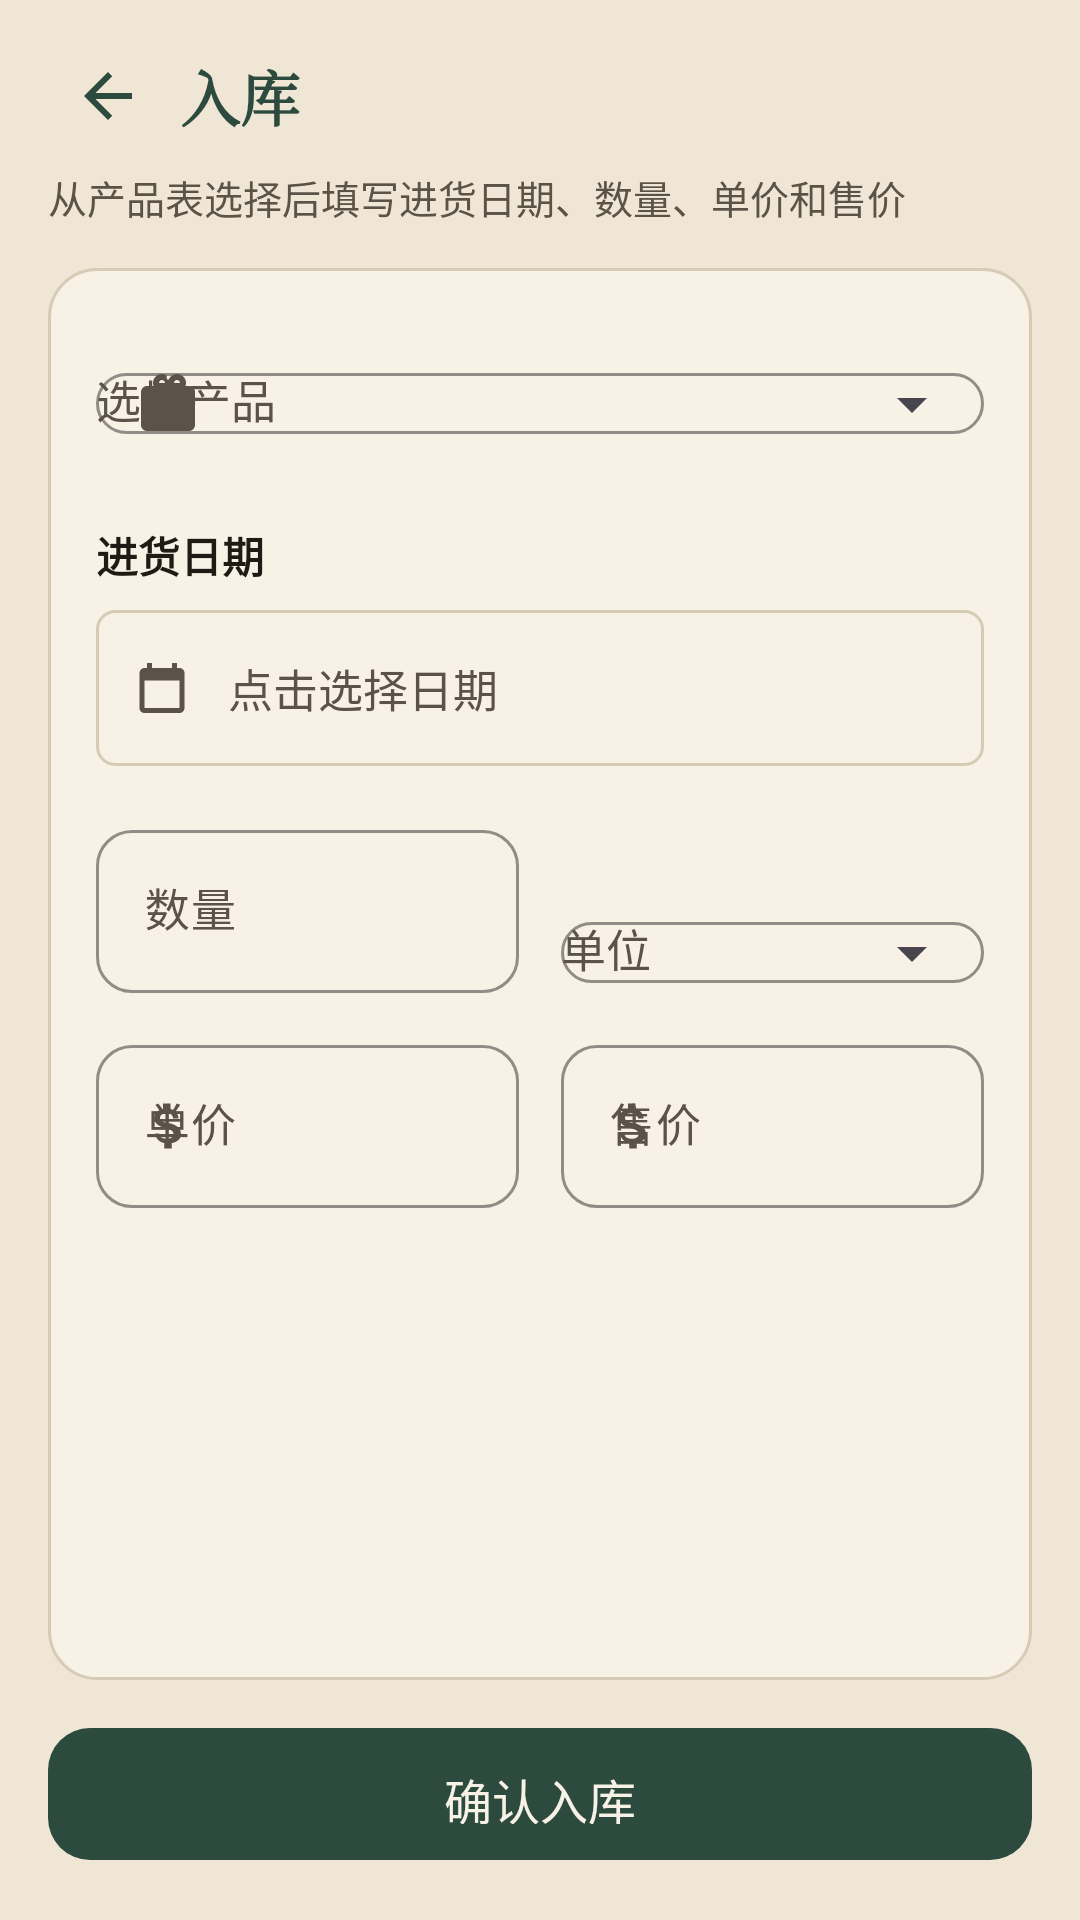

Screen size 1080px x 1920px. Icon name, then its center in pixels as point (x, y):
form date: point (162, 688)
返回: point (108, 96)
